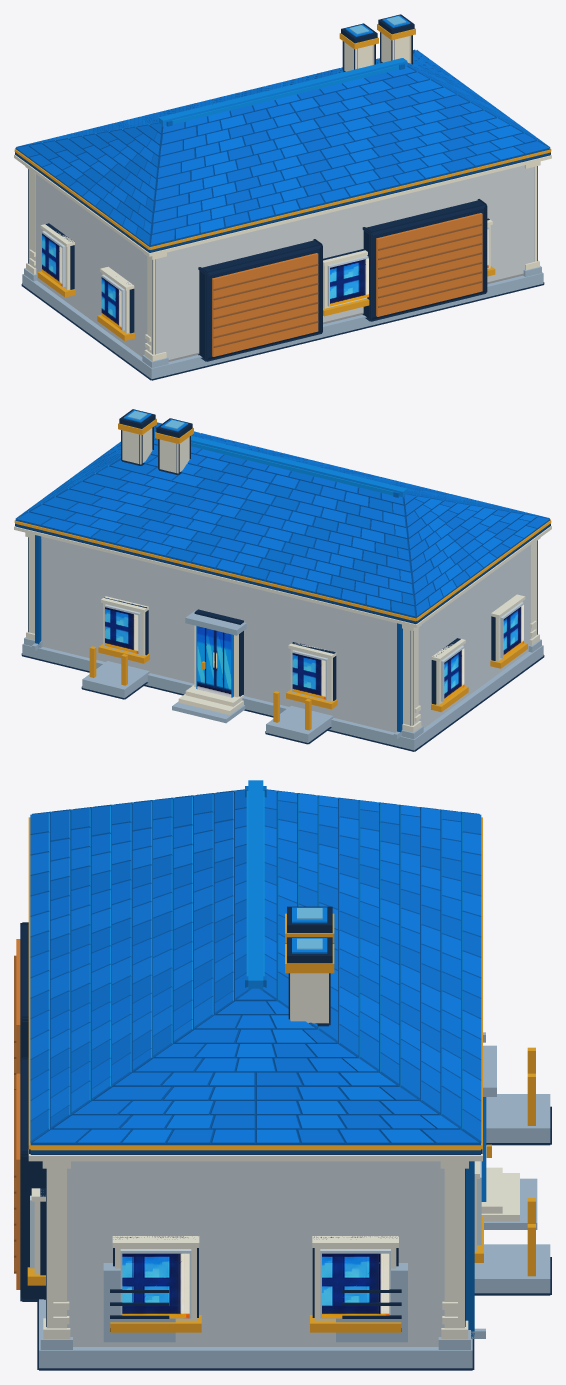
3 renders of one model, top to bottom at view 1: azimuth 30°, elevation 25°; view 2: azimuth 150°, elevation 25°; view 3: azimuth 270°, elevation 25°, orthographic. The views are drawn at different scales.
Parts seen in each view (by area): view 1: B15 小型工厂; view 2: B15 小型工厂; view 3: B15 小型工厂.
Boxes of the visible parts, x1,y1,x2,y2 form: B15 小型工厂: (14,14,551,380); B15 小型工厂: (14,409,551,751); B15 小型工厂: (14,780,551,1370).
Size of the model in its own units: 10.44 by 5.48 by 7.18.
2 materials, 1 textured.
